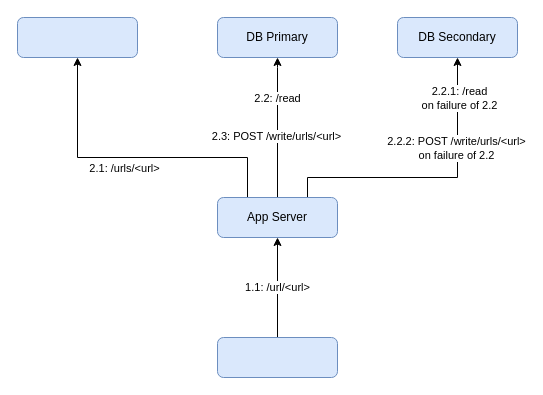
Image size: 543x395. Some labels were removed from this diagram. Each missing label, with the centre of its shape:
"Load Balancer" goes at (277,357).
"Requestmapper" goes at (77,37).
